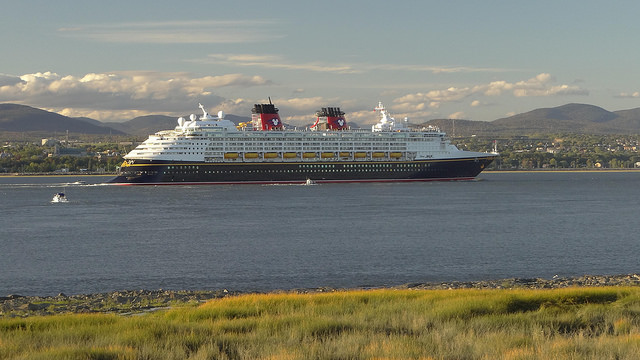cruise_ship: (104, 105, 501, 187)
